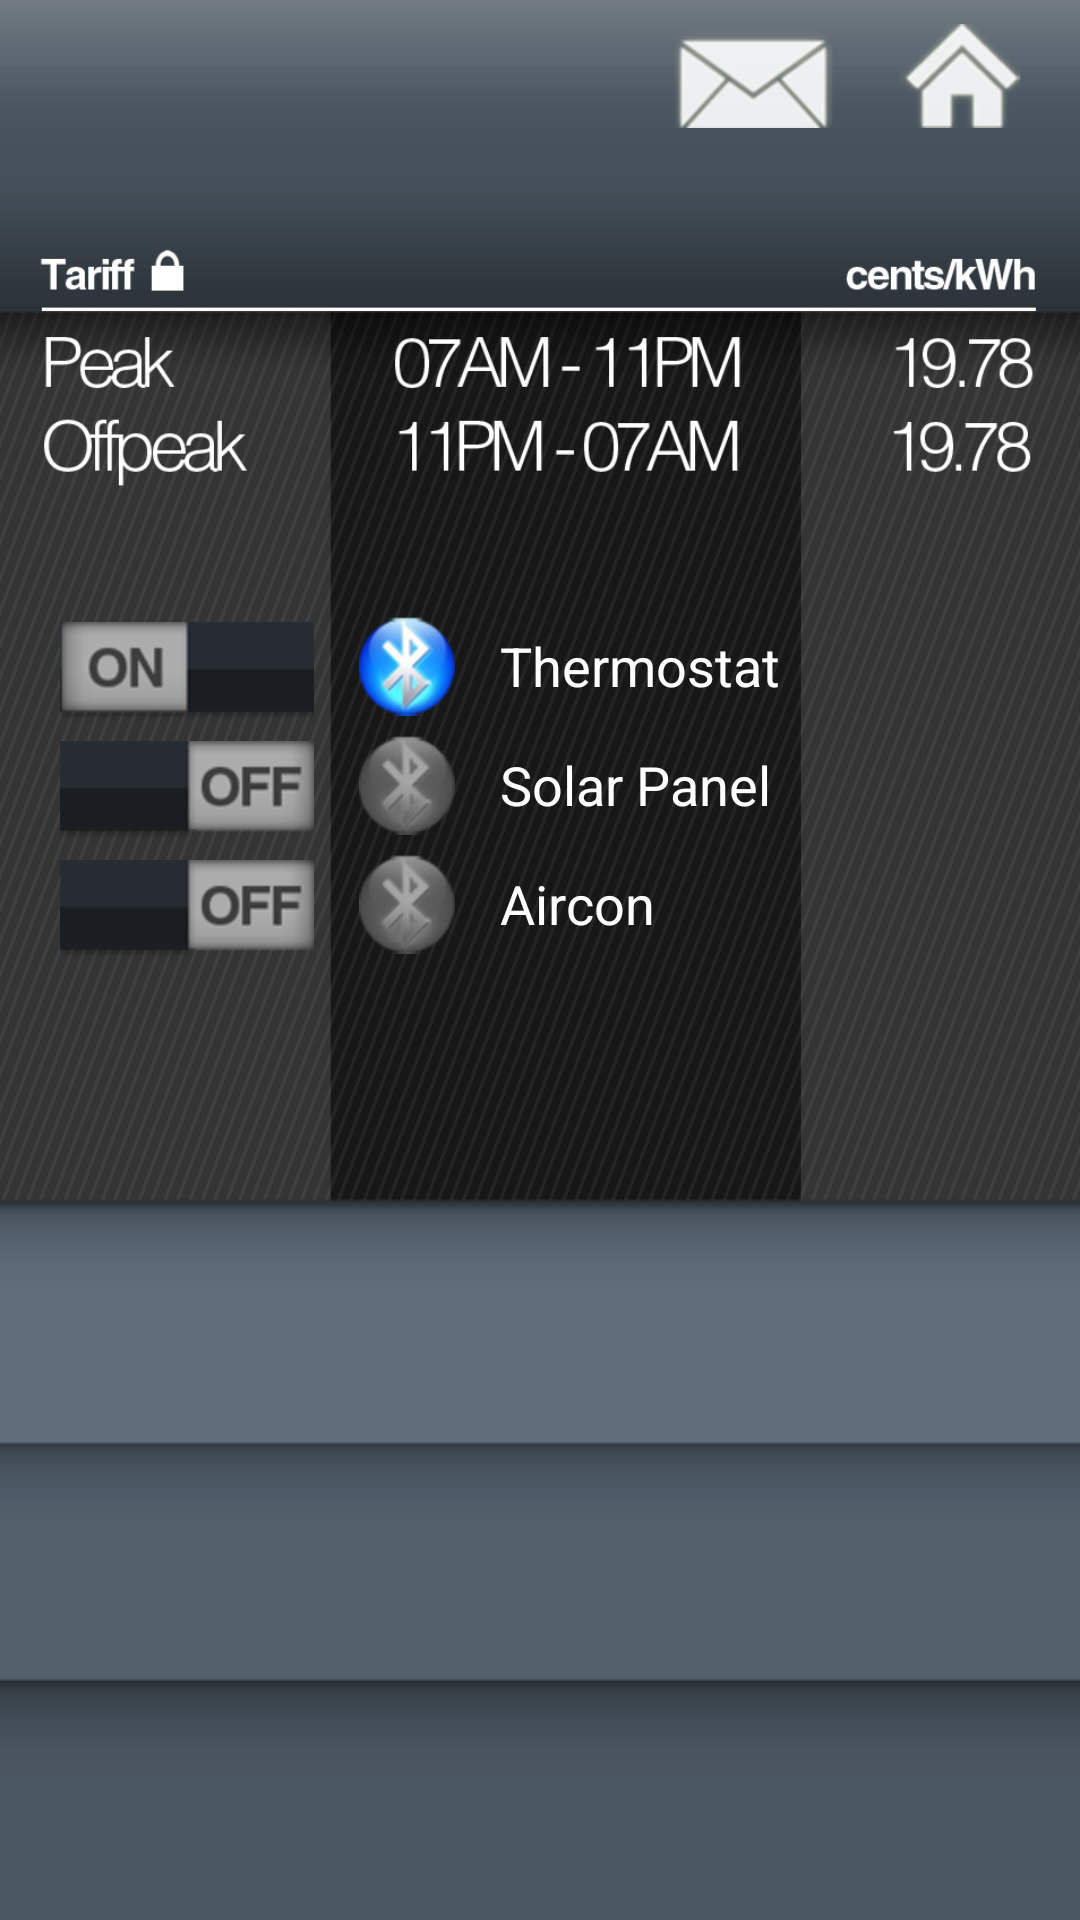

Icons on this 1080x1920 Android screen, each with the point to tap as (x=x, y=y):
home: (x=990, y=76)
send: (x=787, y=76)
